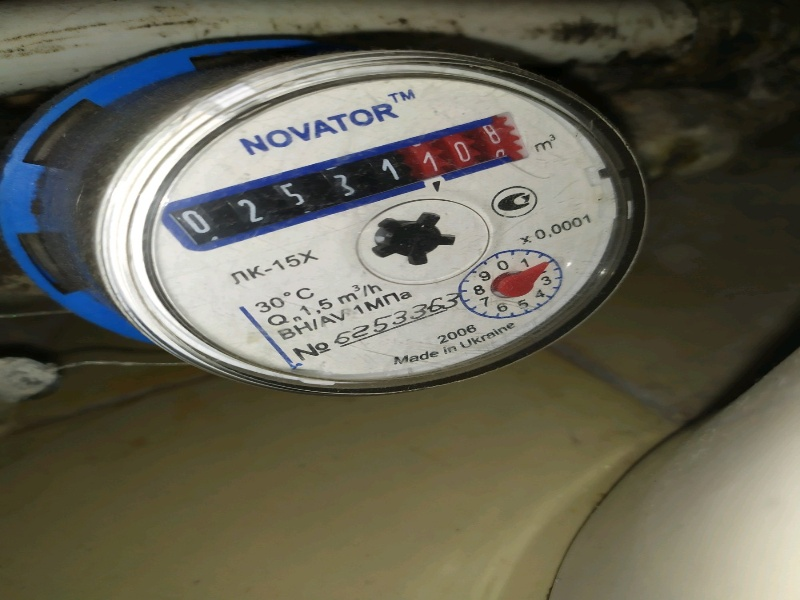meter: (177, 128, 519, 241)
